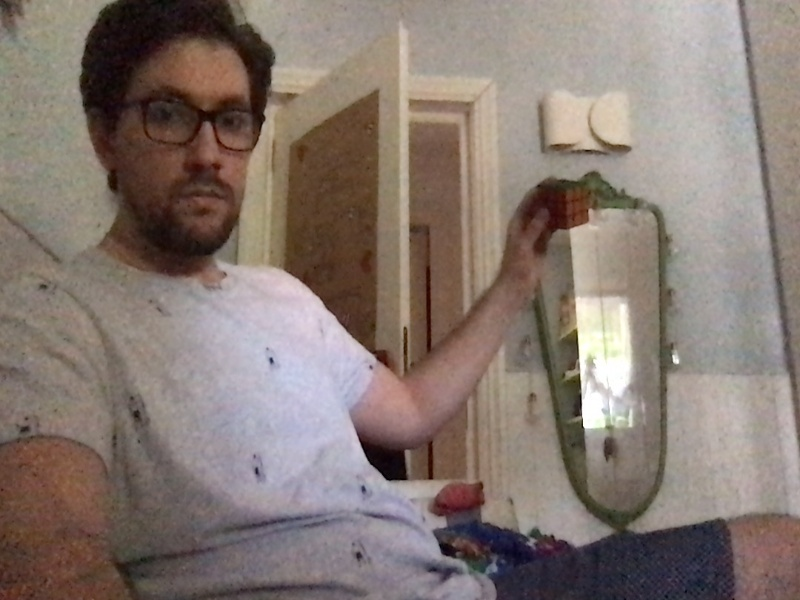rubik: (537, 178, 591, 231)
